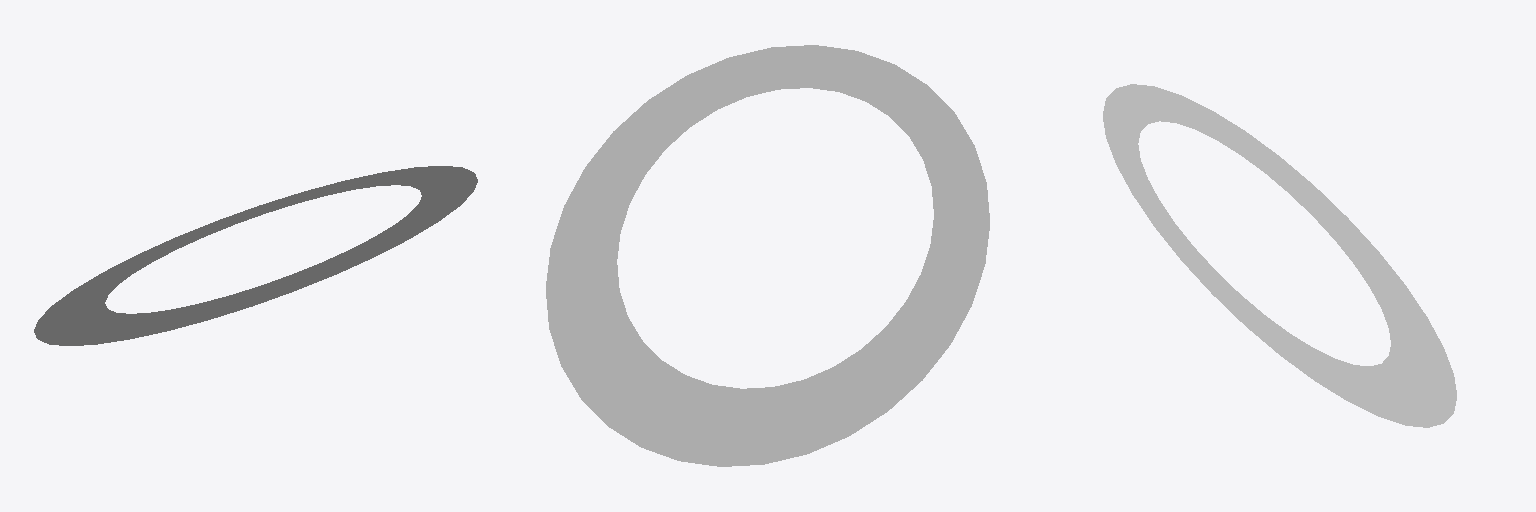
File: EngineBody10.obj
3 views of the same model, side by side, from view 1: azimuth 30°, elevation 25°; view 2: azimuth 150°, elevation 25°; view 3: azimuth 270°, elevation 25° (orthographic).
Visible parts, largest first — view 1: EngineBody3(DisplayBlack)_Cylinder.022; view 2: EngineBody3(DisplayBlack)_Cylinder.022; view 3: EngineBody3(DisplayBlack)_Cylinder.022.
Boxes of the visible parts, x1,y1,x2,y2 form: EngineBody3(DisplayBlack)_Cylinder.022: [34, 166, 477, 345]; EngineBody3(DisplayBlack)_Cylinder.022: [546, 45, 989, 466]; EngineBody3(DisplayBlack)_Cylinder.022: [1103, 84, 1456, 427].
Size of the model in its own units: 0.3495 by 0.2299 by 0.2633.